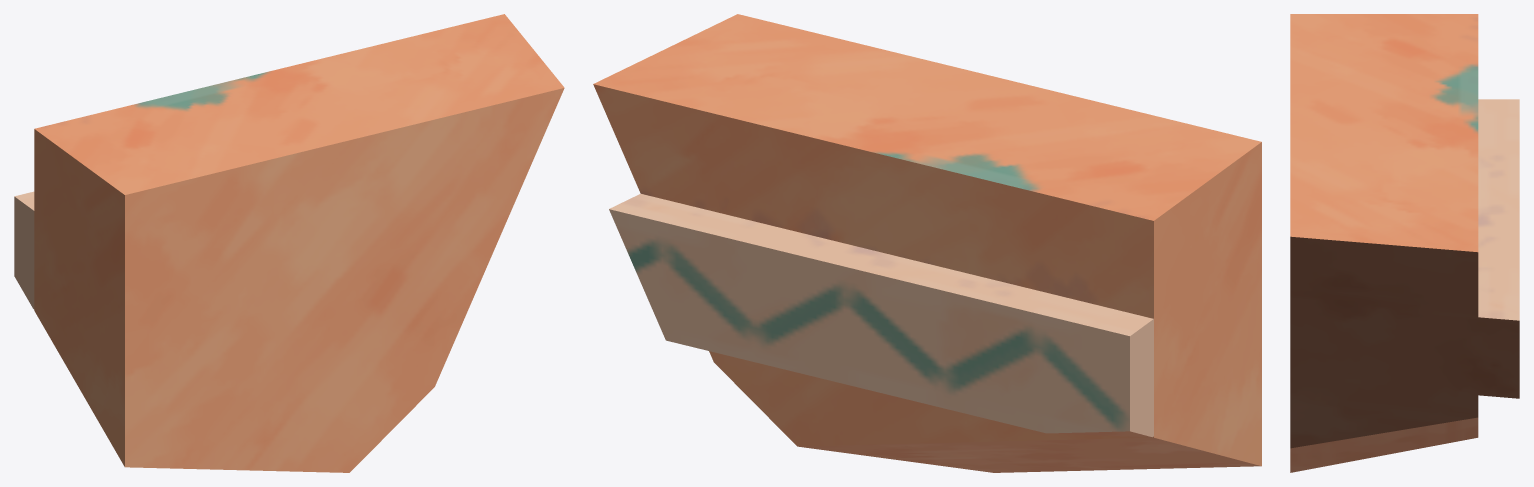
File: wall2_door_s03.fbx
3 renders of one model, left to right at view 1: azimuth 30°, elevation 25°; view 2: azimuth 150°, elevation 25°; view 3: azimuth 270°, elevation 25°, orthographic. The views are drawn at different scales.
Parts seen in each view (by area): view 1: wall2_door_s03; view 2: wall2_door_s03; view 3: wall2_door_s03.
Part boxes in pixels (x1,y1,x2,y2): wall2_door_s03: (14,14,564,472); wall2_door_s03: (593,14,1261,472); wall2_door_s03: (1290,14,1519,472).
Bounding box in the file's own units: 3 × 2.02 × 1.22.
